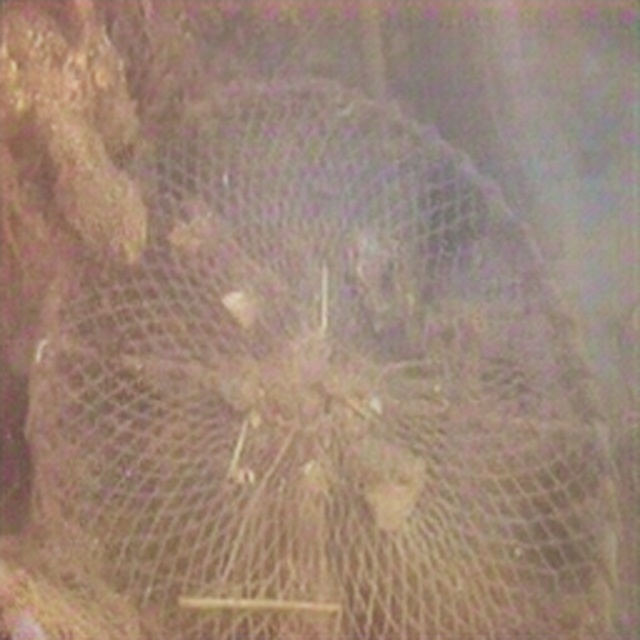mine: (27, 70, 618, 639)
